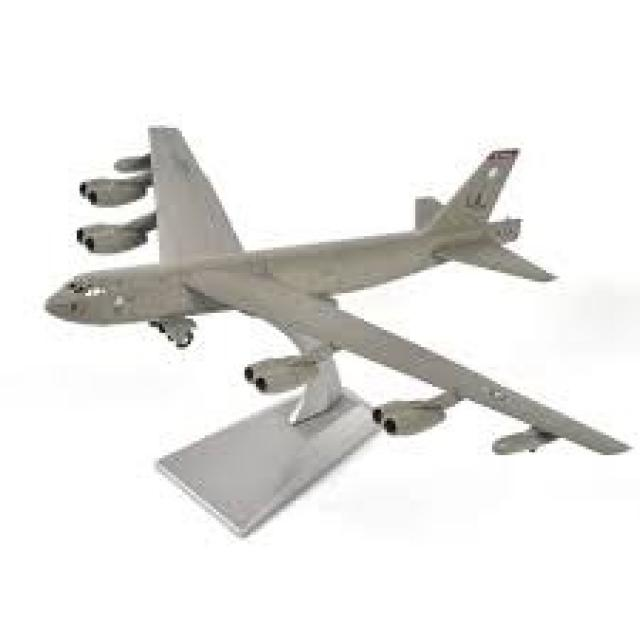B52: (14, 111, 640, 495)
